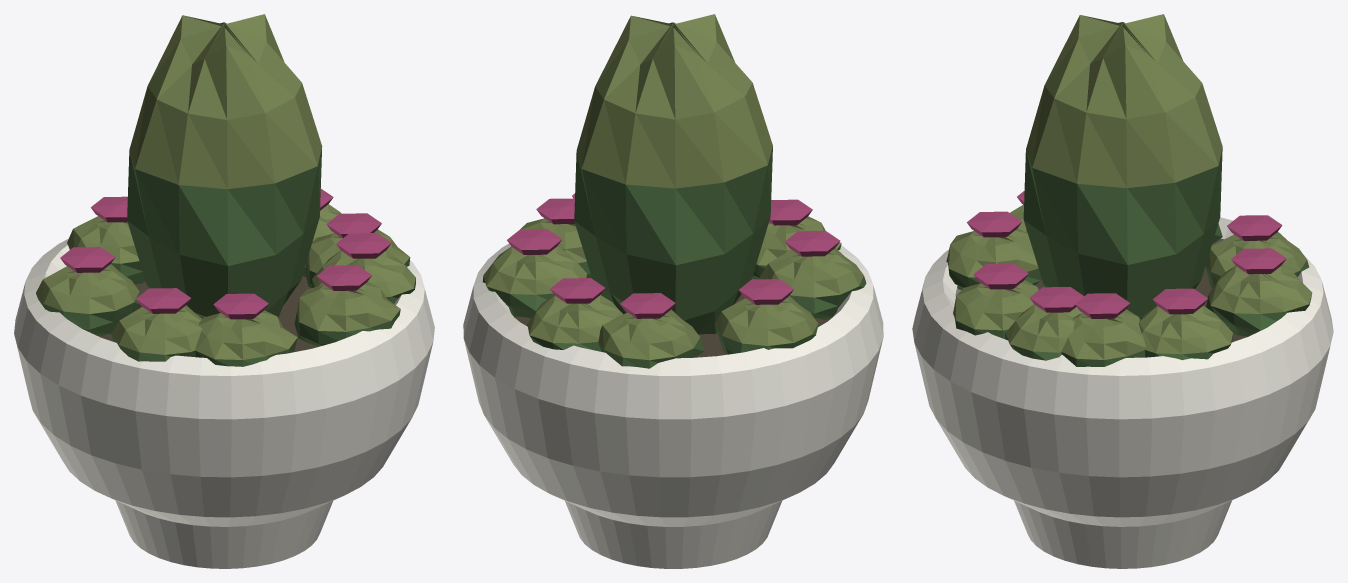
Rendered from republic-bowl.glb.
3 views of the same model, side by side, from view 1: azimuth 30°, elevation 25°; view 2: azimuth 150°, elevation 25°; view 3: azimuth 270°, elevation 25° (orthographic).
Bounding box in the file's own units: 1.66 × 2.2 × 1.66.
